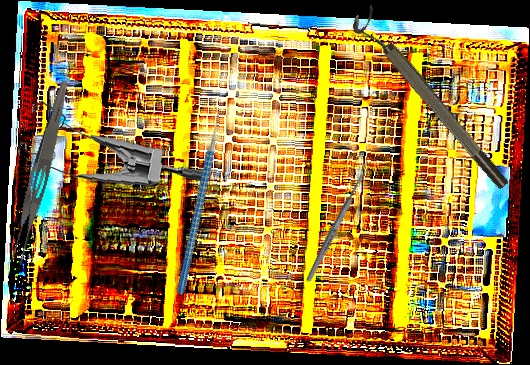Chopper: (115, 96, 278, 296)
Dressing Forceps: (6, 77, 73, 267)
Fixation Ring: (347, 4, 513, 199)
Speculum: (14, 89, 211, 197)
Surgical Spoon: (304, 161, 372, 284)
